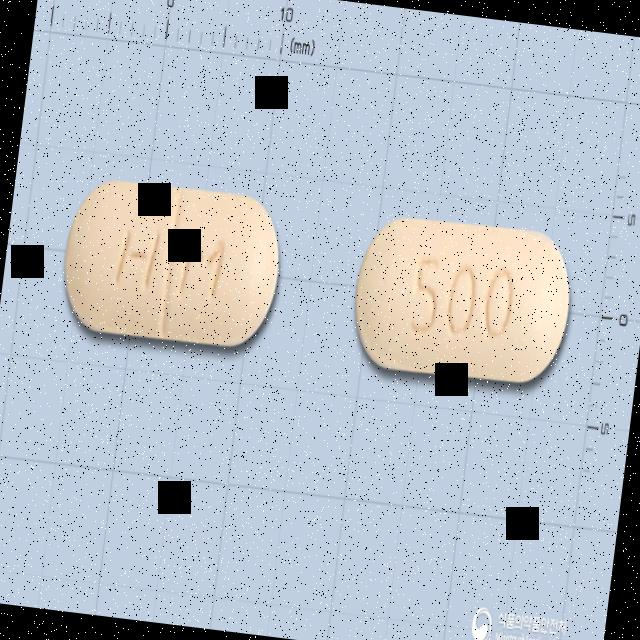Levoxacin: (346, 212, 578, 392), (56, 174, 288, 352)
